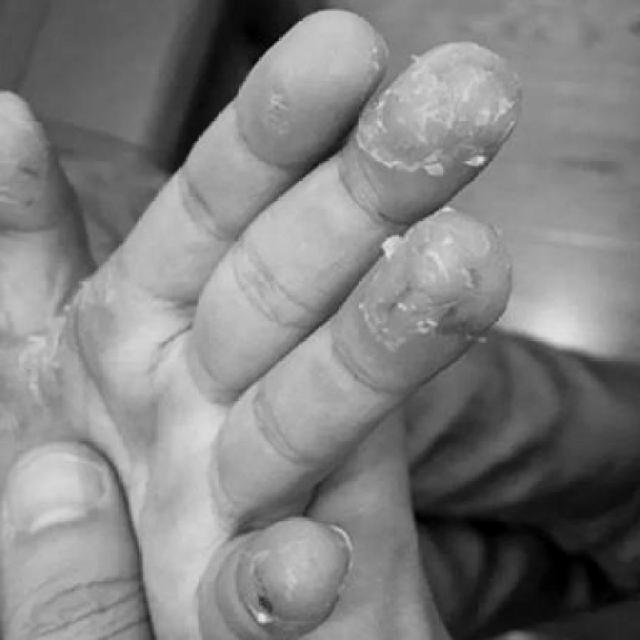hand_noglove: (1, 8, 530, 618)
